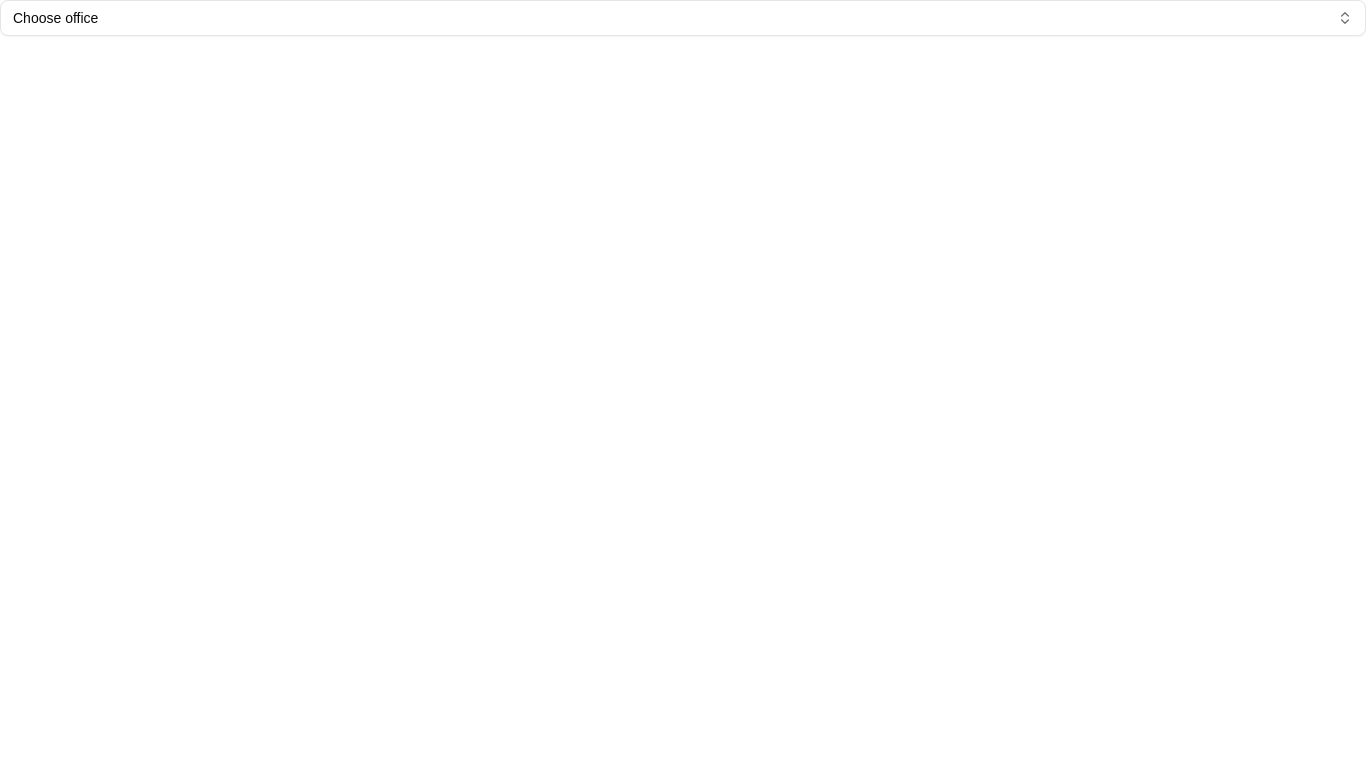
LookupCombobox › searches options in the browser
Click the dropdown labelled "office". click: (56, 18)
box: 0,0 -> 1365,36
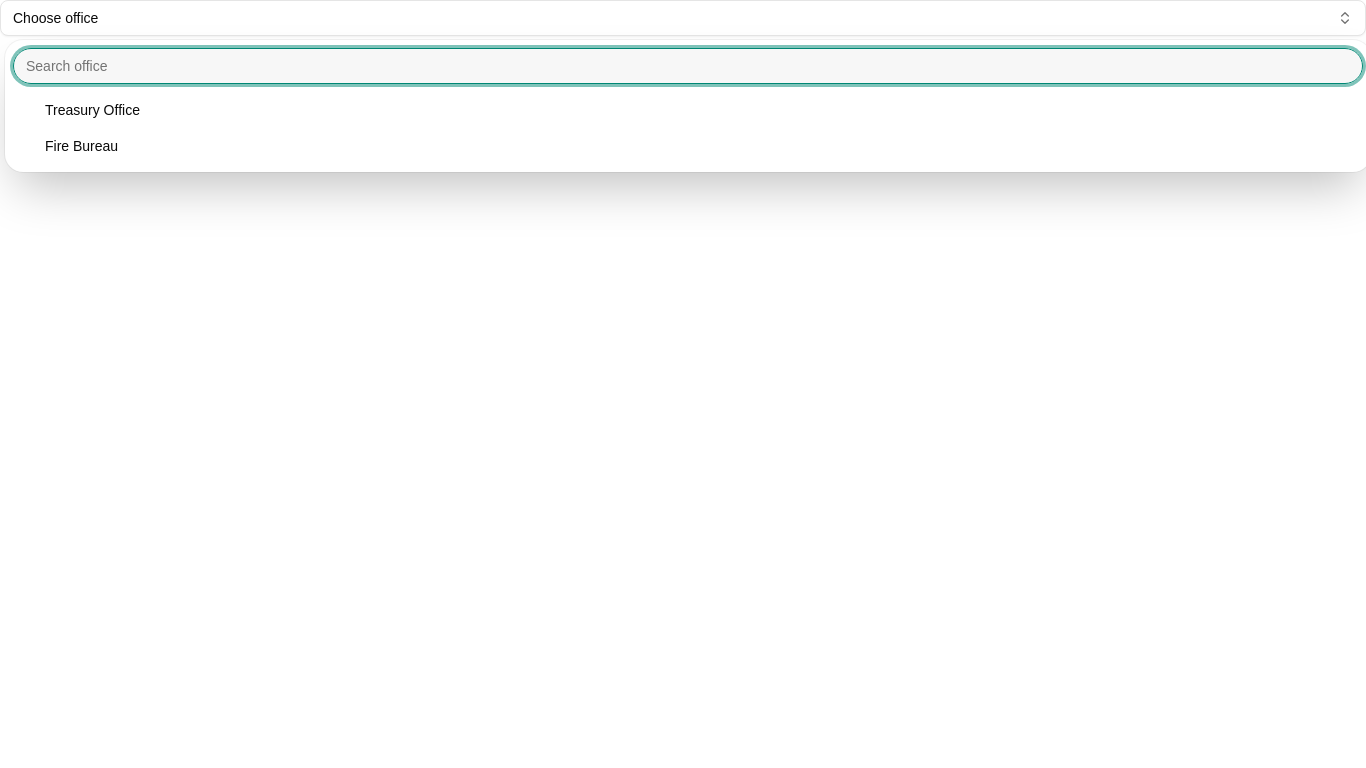
Type "fire" into the field labelled "Search office". click: (688, 66)
box: 13,48 -> 1363,84
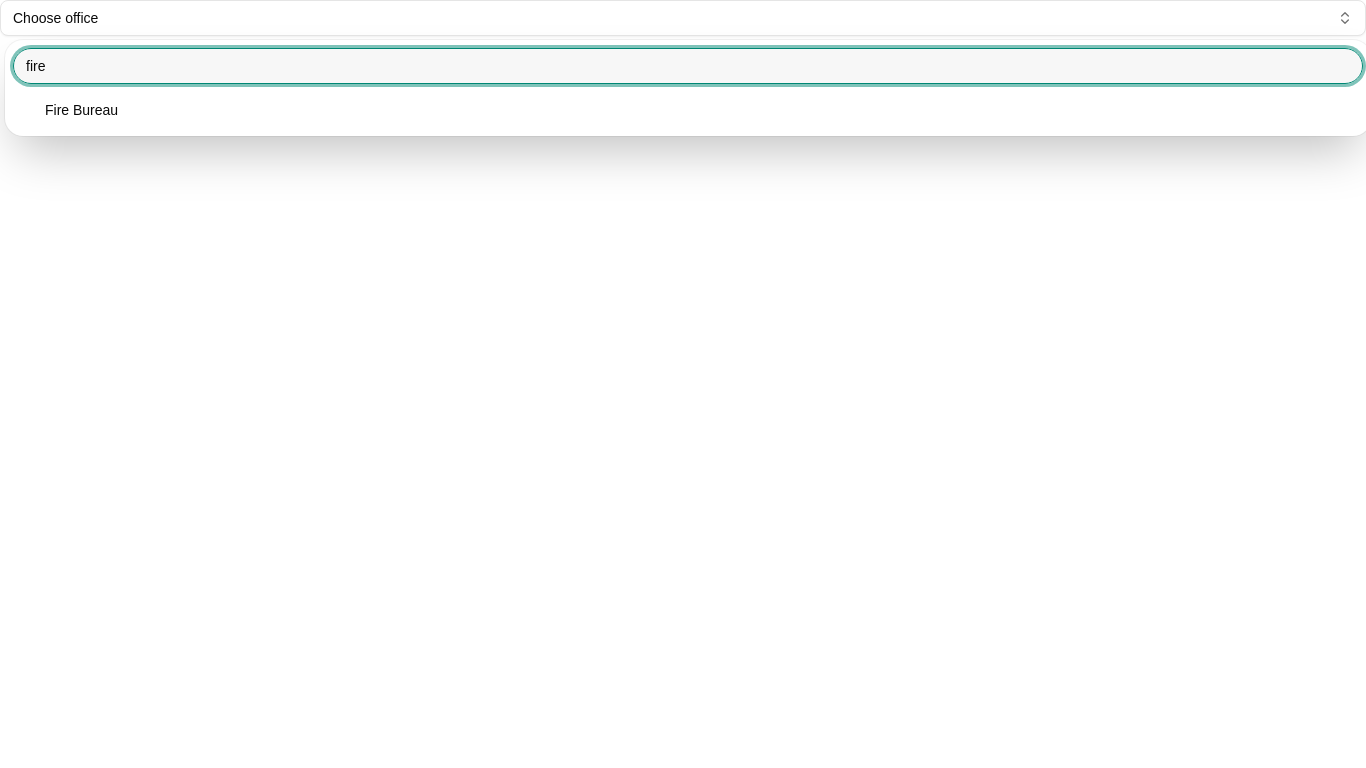
Expected: the option "Fire Bureau" is shown, 13,92 -> 1363,128
Expected: the option "Treasury Office" is gone
